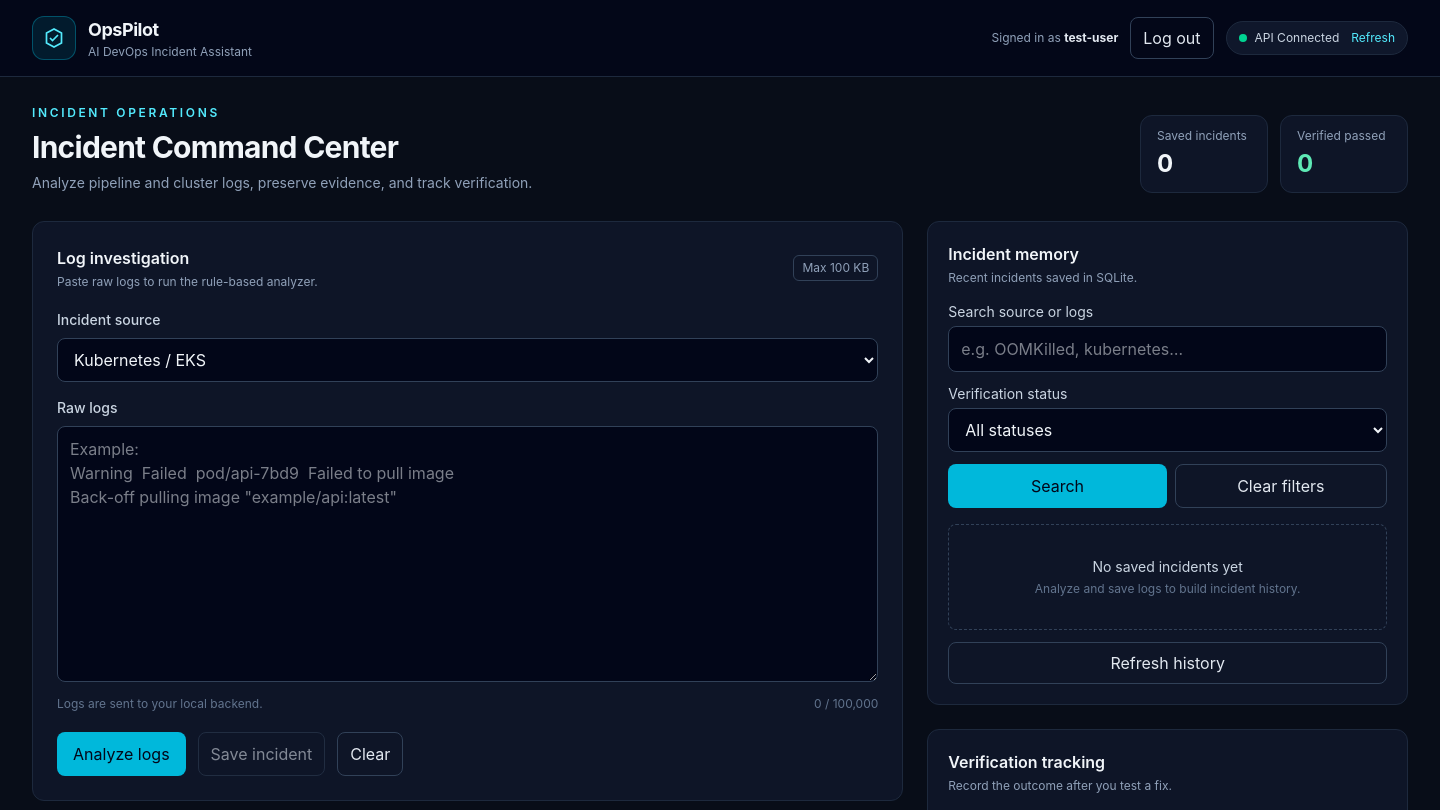
Test: incident history filters › searches incidents and sends the search term to the API
Type "OOMKilled" into the search field labelled "Search source or logs".
click(1168, 349); type("OOMKilled")  # box [948,326,1387,372]
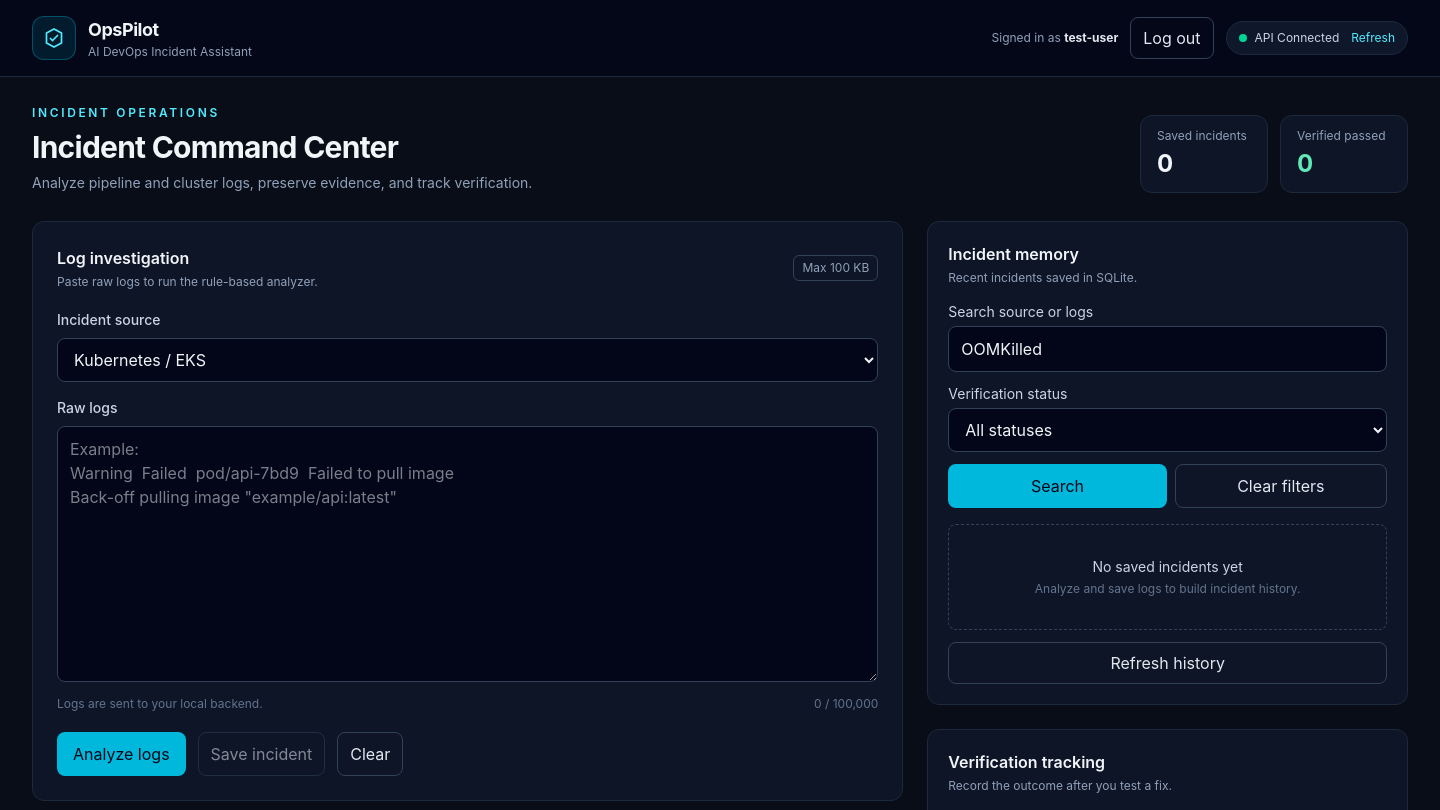
Click the button "Search".
click(1058, 486)  # box [948,464,1167,508]
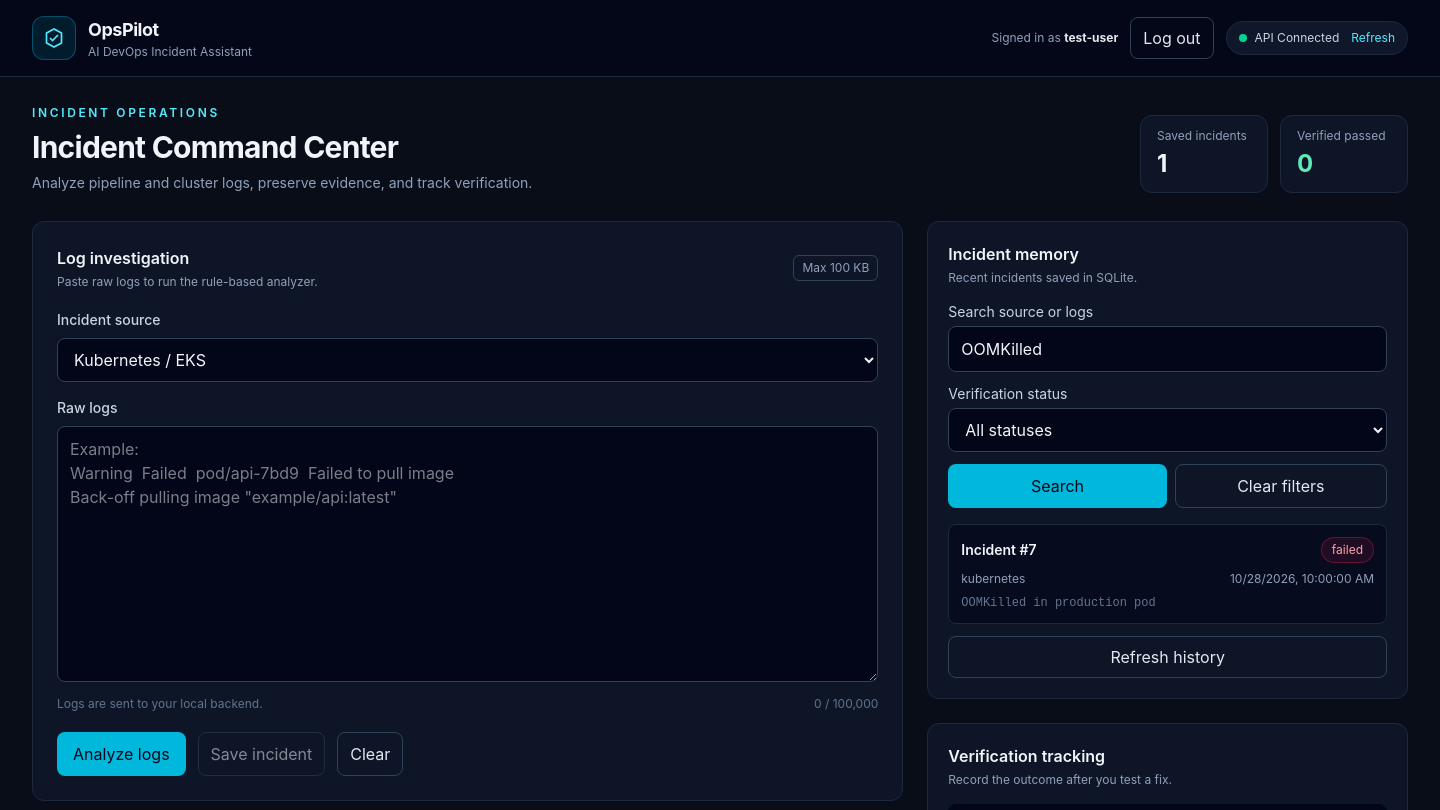
Result: the button with aria-label "Open incident 7" is shown at [948,524,1387,624]
